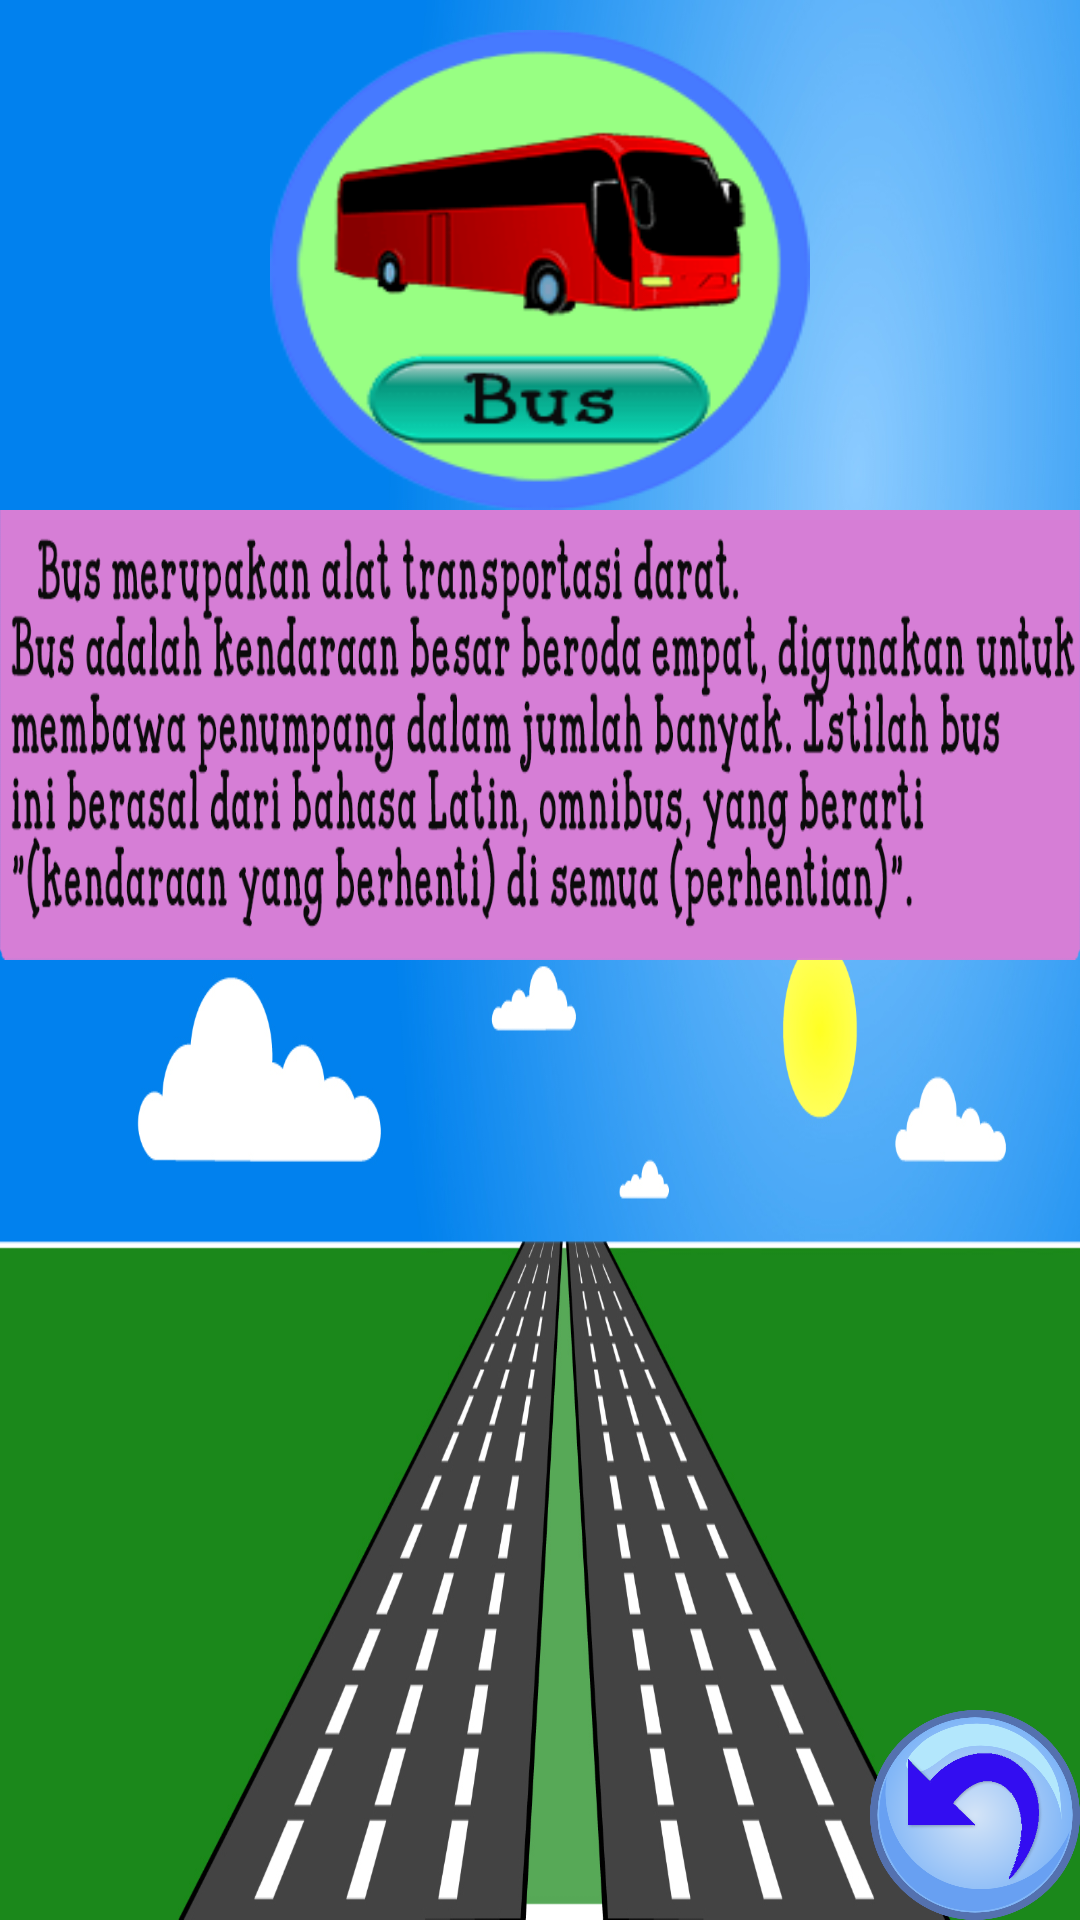

Screen size 1080x1920. Icon name, then its box in pixels as box=[x1, y1, x2, y2]:
back: box=[870, 1710, 1080, 1920]
